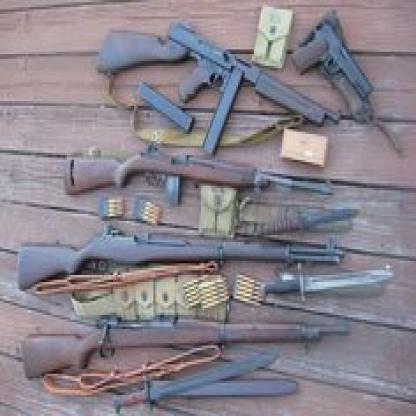Gun: (95, 21, 341, 156), (16, 220, 342, 294), (22, 316, 350, 380), (65, 138, 334, 209)
Knife: (113, 341, 298, 416), (260, 261, 393, 299)
Pistol: (292, 17, 376, 98)
